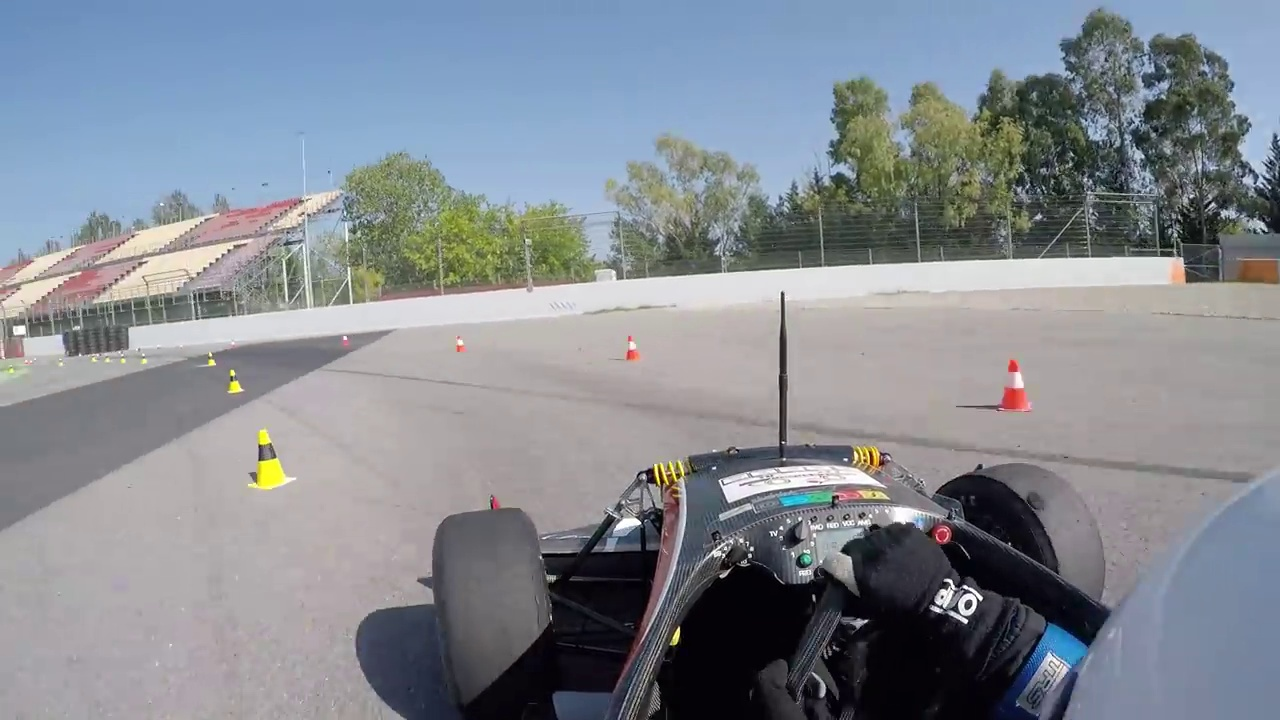Cone: (250, 427, 294, 489), (997, 359, 1035, 413)
